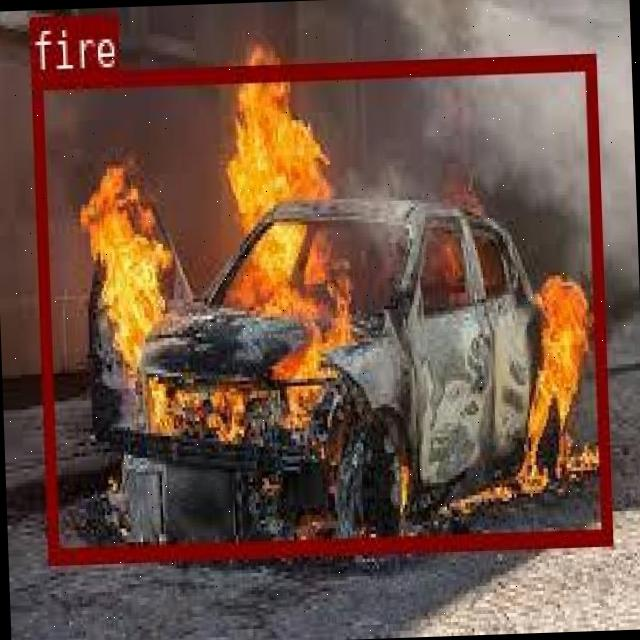fire: (29, 52, 609, 560)
